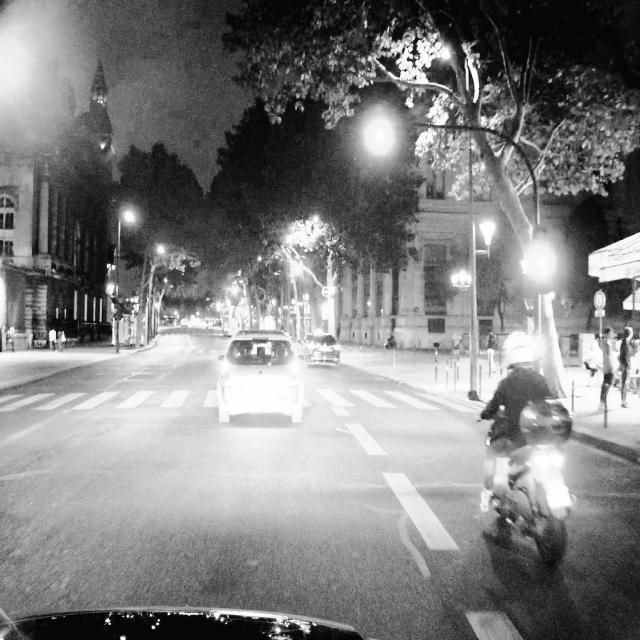Car: (219, 326, 303, 426)
Light: (369, 85, 391, 150), (534, 229, 550, 275)
Motorcycle: (466, 385, 573, 571)
